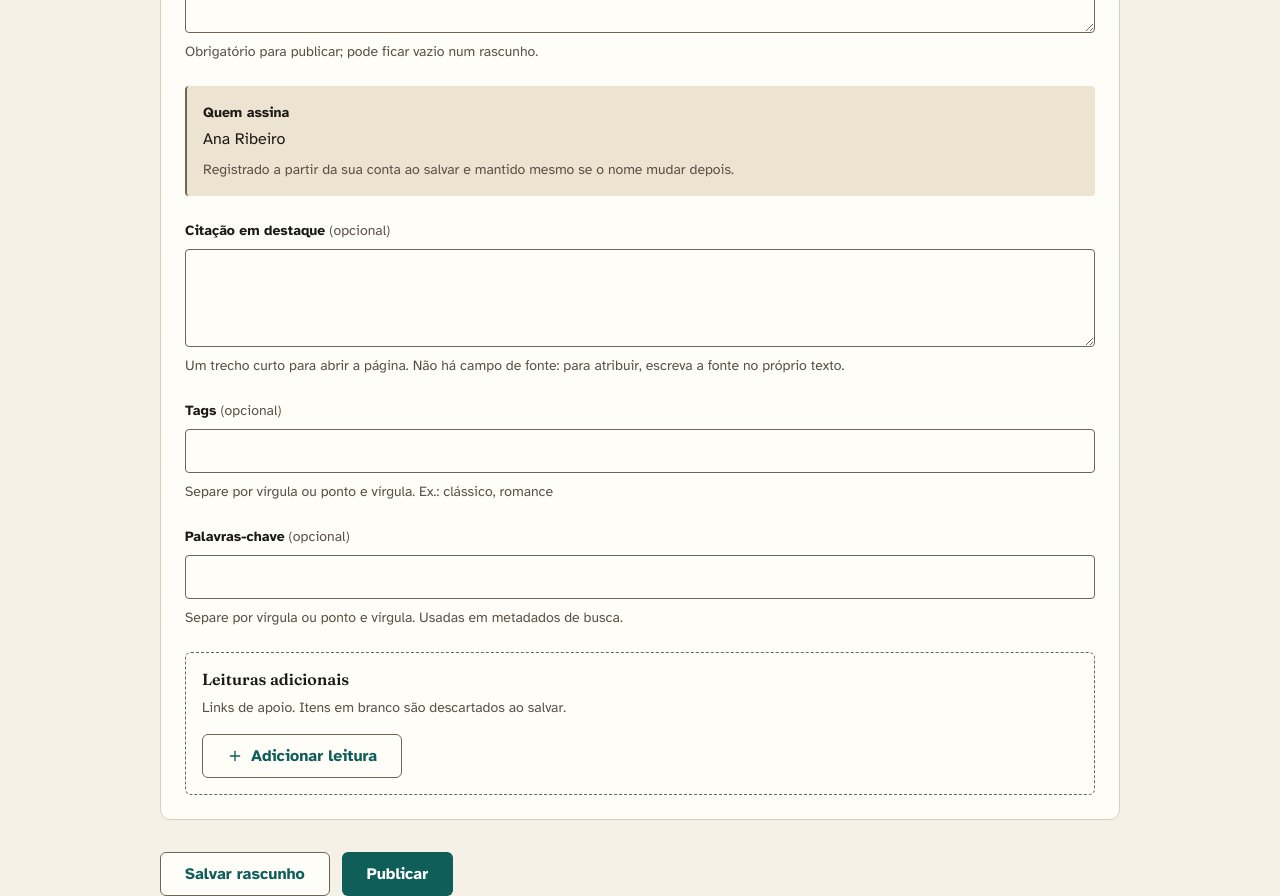
it: leituras adicionais: adicionar, remover e o foco em cada transição › remover o item de MAIOR índice → foco no "Remover" que passou a ser o último
The image size is (1280, 896).
(page scrolled)
Click the button "Adicionar leitura": click(302, 756) [202,734,402,778]
(page scrolled)
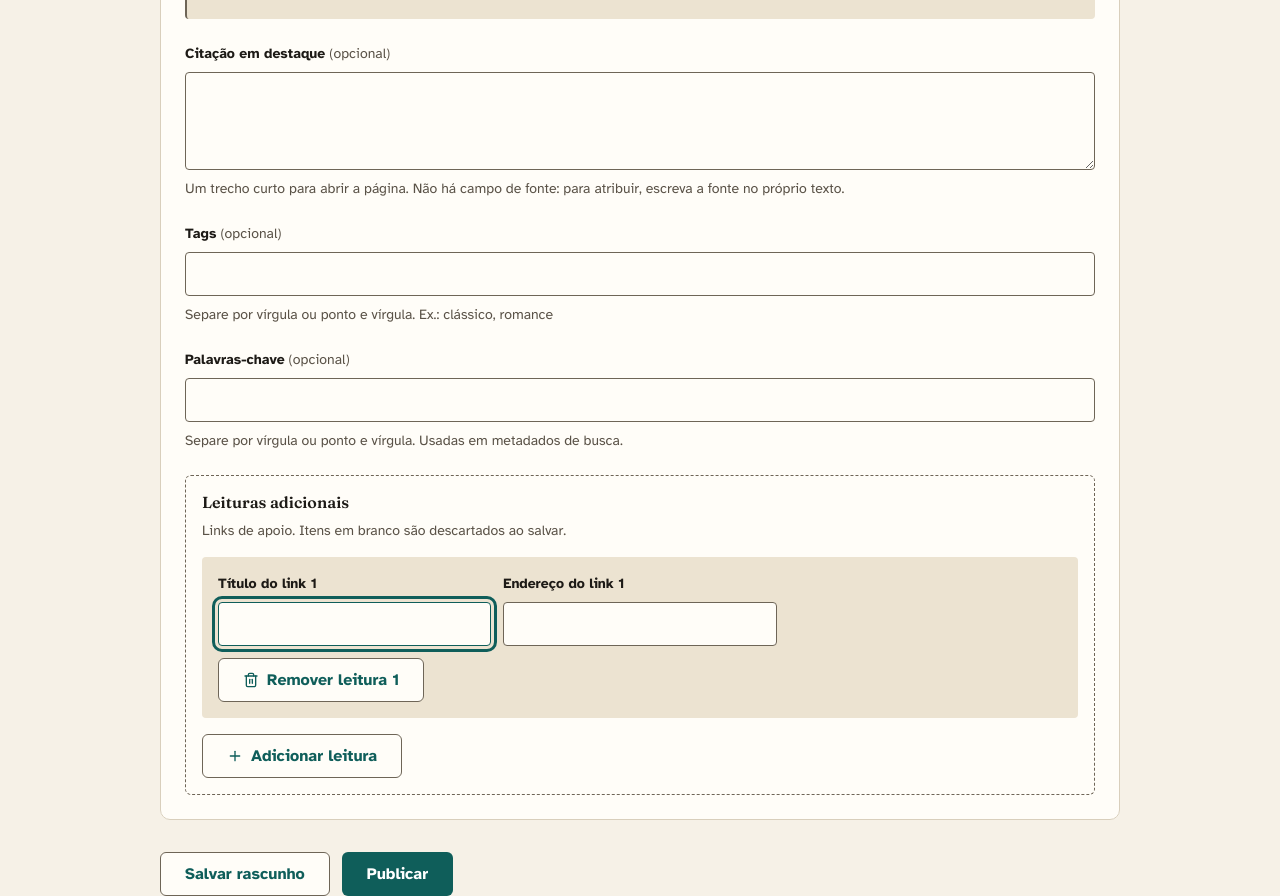
Click the button "Adicionar leitura": click(302, 756) [202,734,402,778]
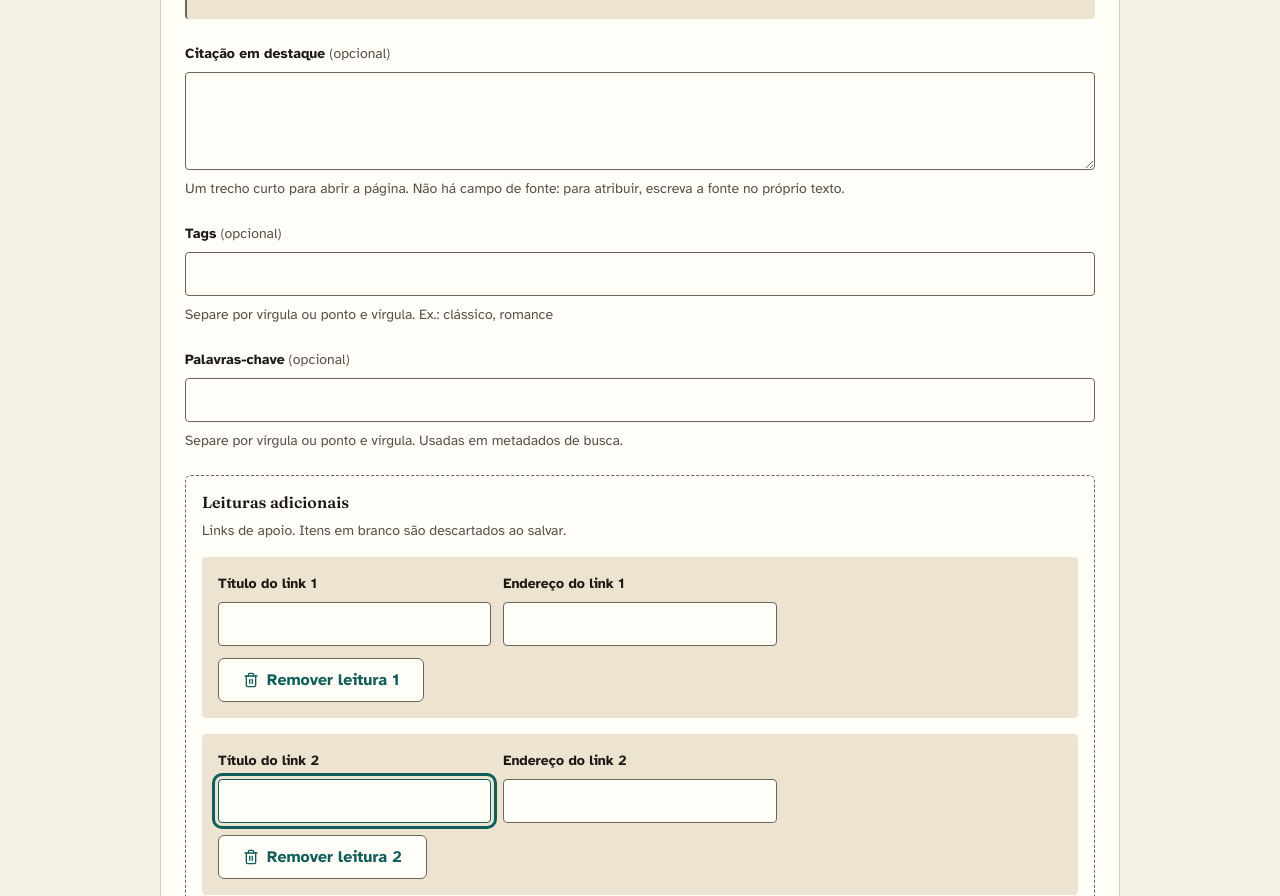
Click the button "Remover leitura 2": click(322, 857) [218,835,426,879]
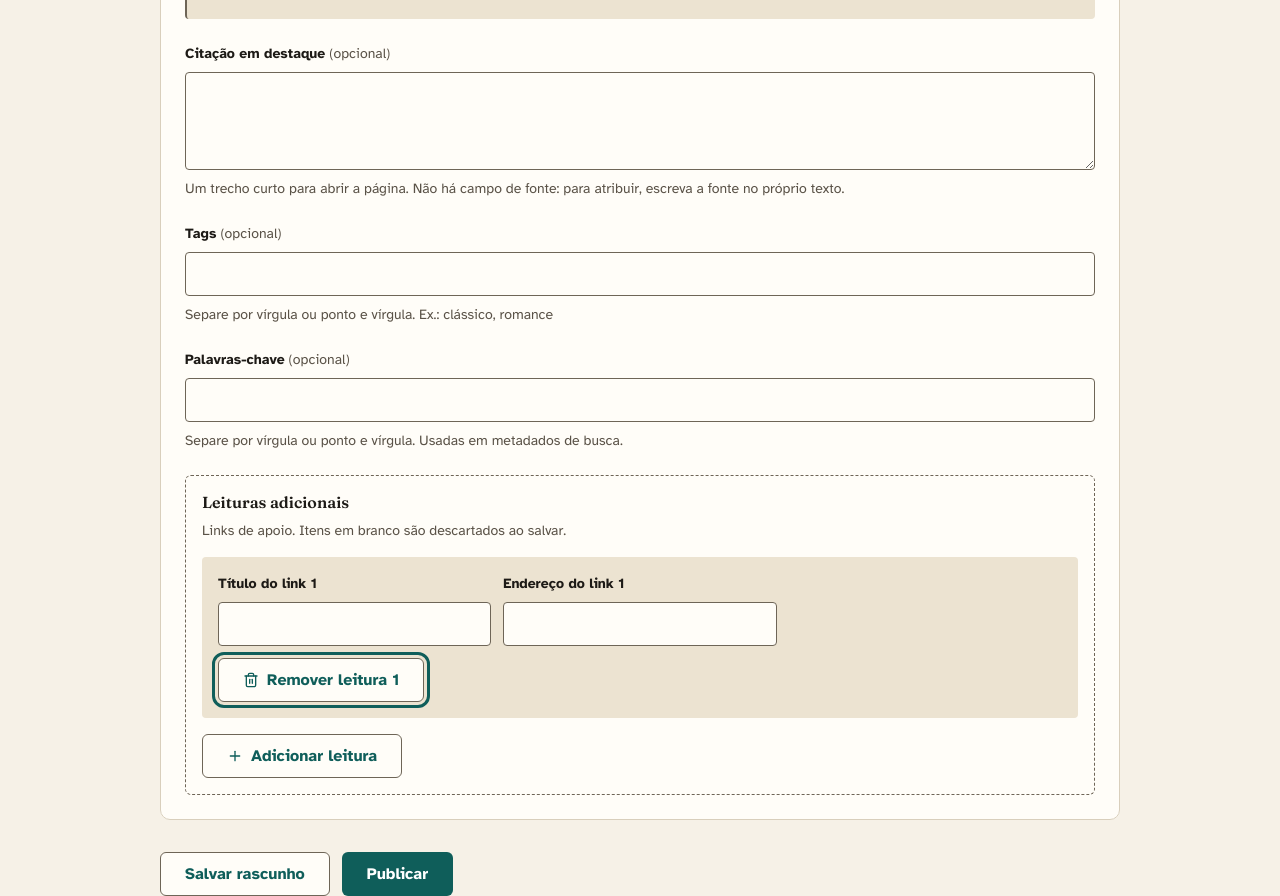
Check: the button "Remover leitura 2" is gone
